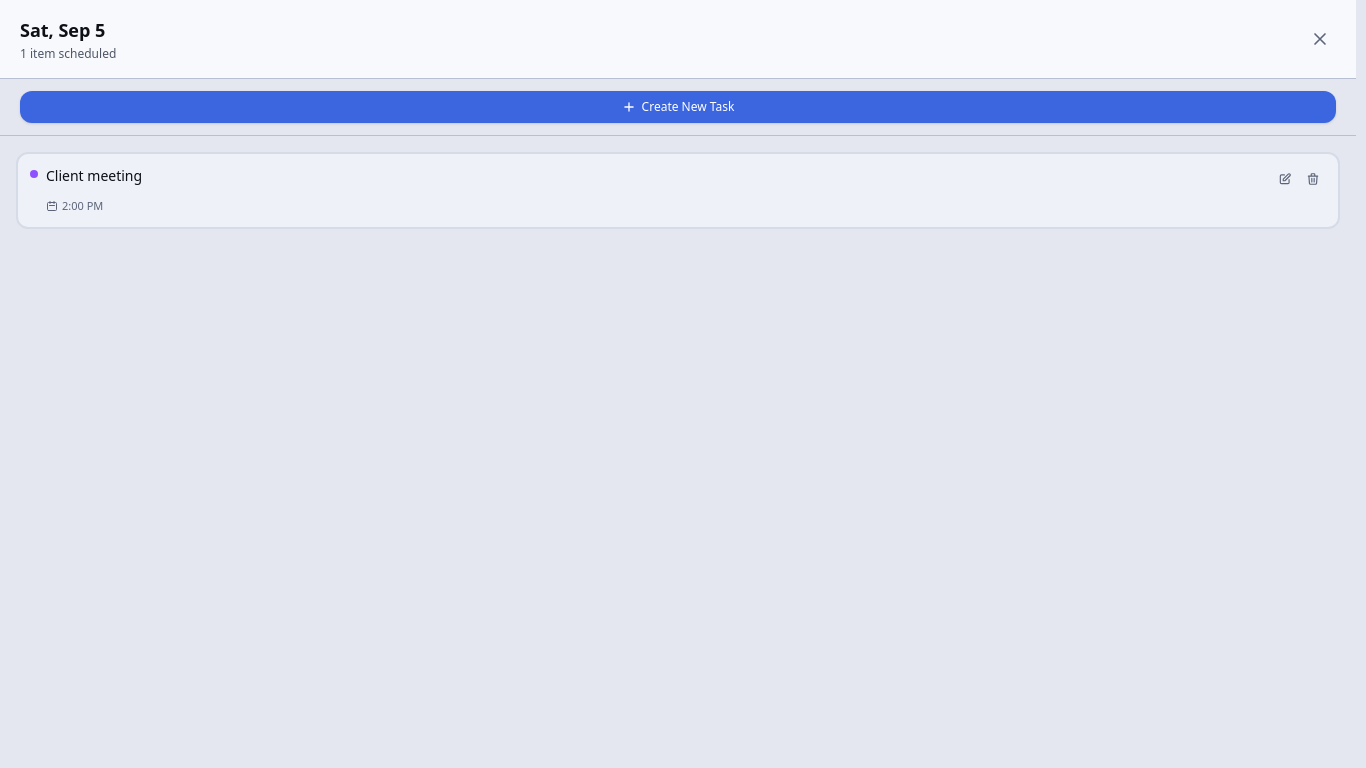
Test case: event popup: imported meeting details › says nothing about visibility for a meeting that is not private
Step 1. Click the heading "Client meeting" → (94, 176), box x1=46 y1=166 x2=142 y2=186
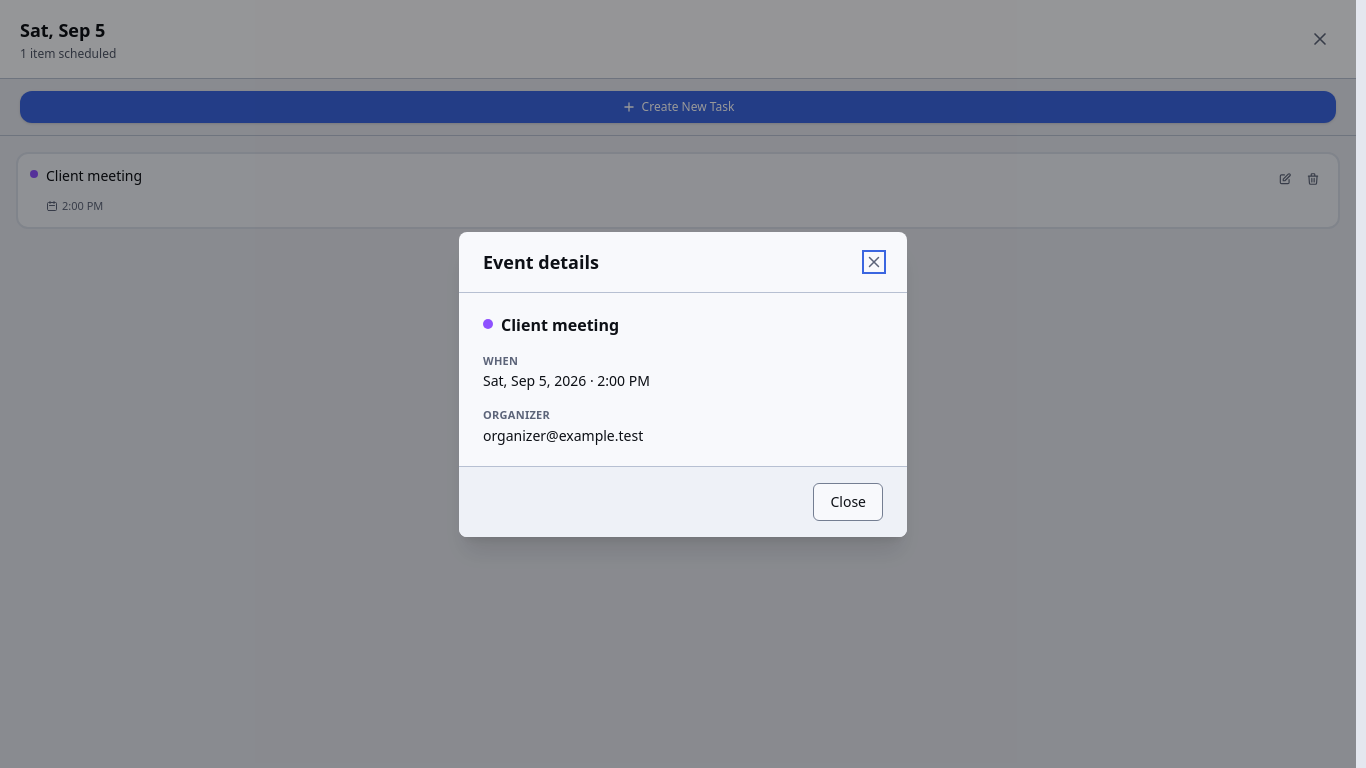
Now the text "organizer@example.test" is shown, box x1=483 y1=426 x2=643 y2=444
